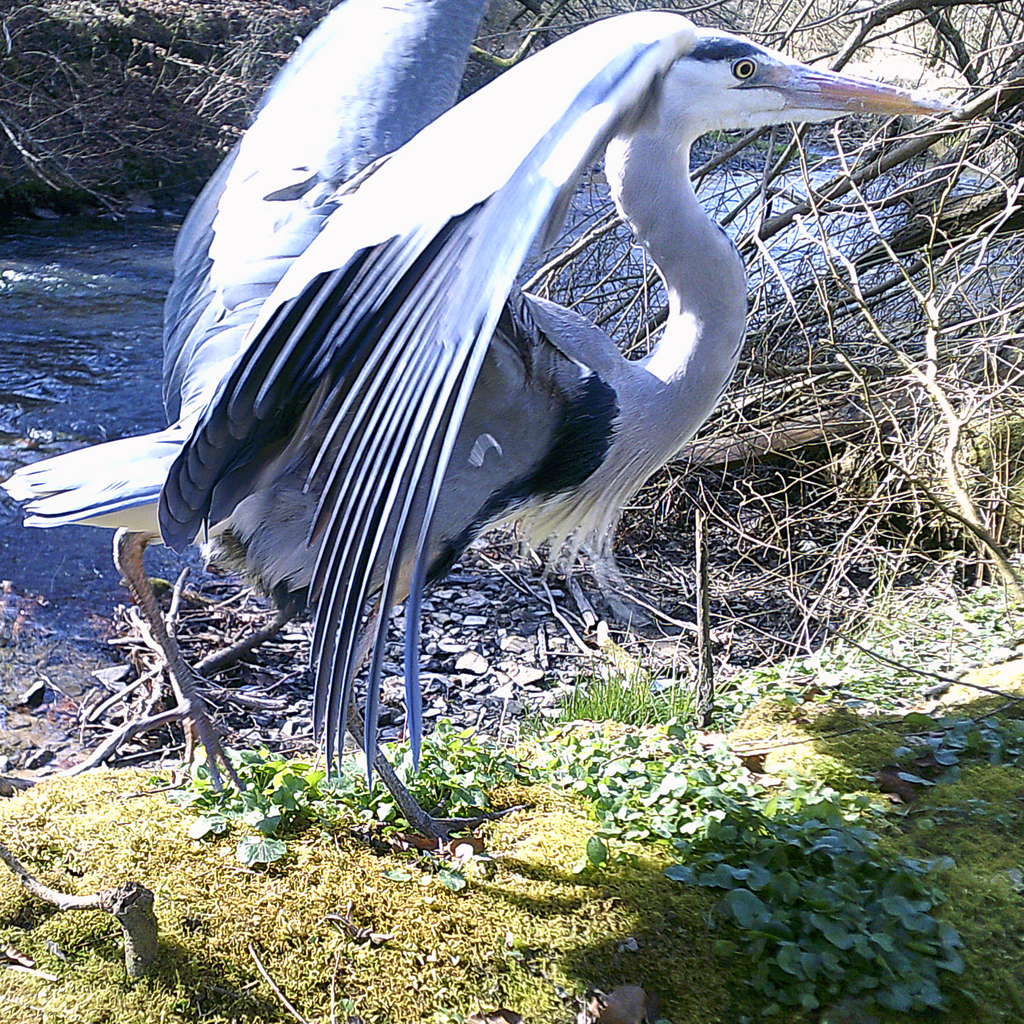heron: (2, 1, 959, 846)
